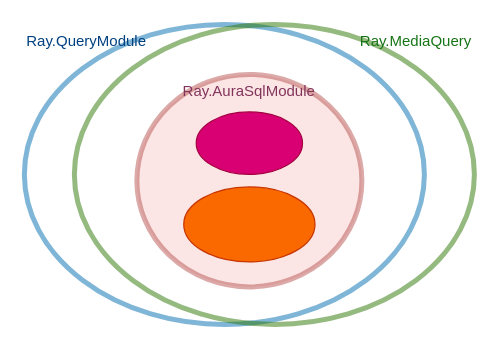
This 498x348 diagram has some shape labels left out. Here are the shapes that lost their labels. From the top down, the centre of each, then its label:
point (248, 142): Aura.Sql
point (248, 224): Aura.SqlQuery
